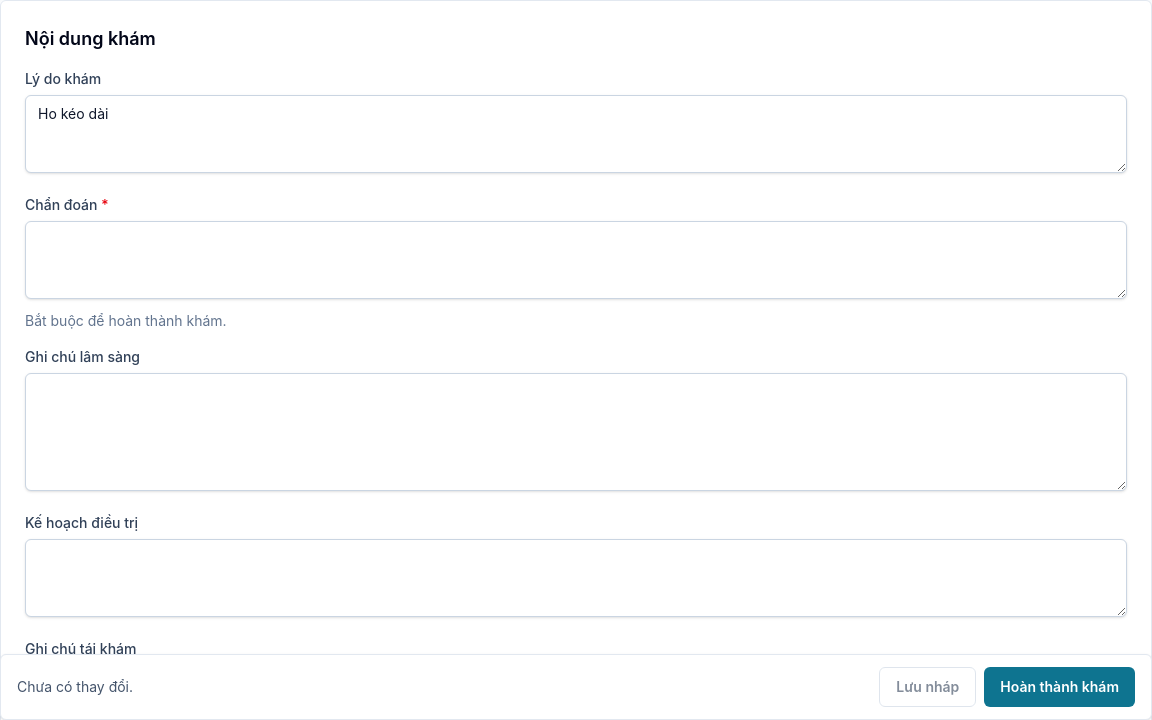
Scenario: EncounterExamTab › không cho hoàn thành khi thiếu chẩn đoán
Click the button with test id "complete-button" at (1060, 687), box [984,667,1135,707]
(page scrolled)
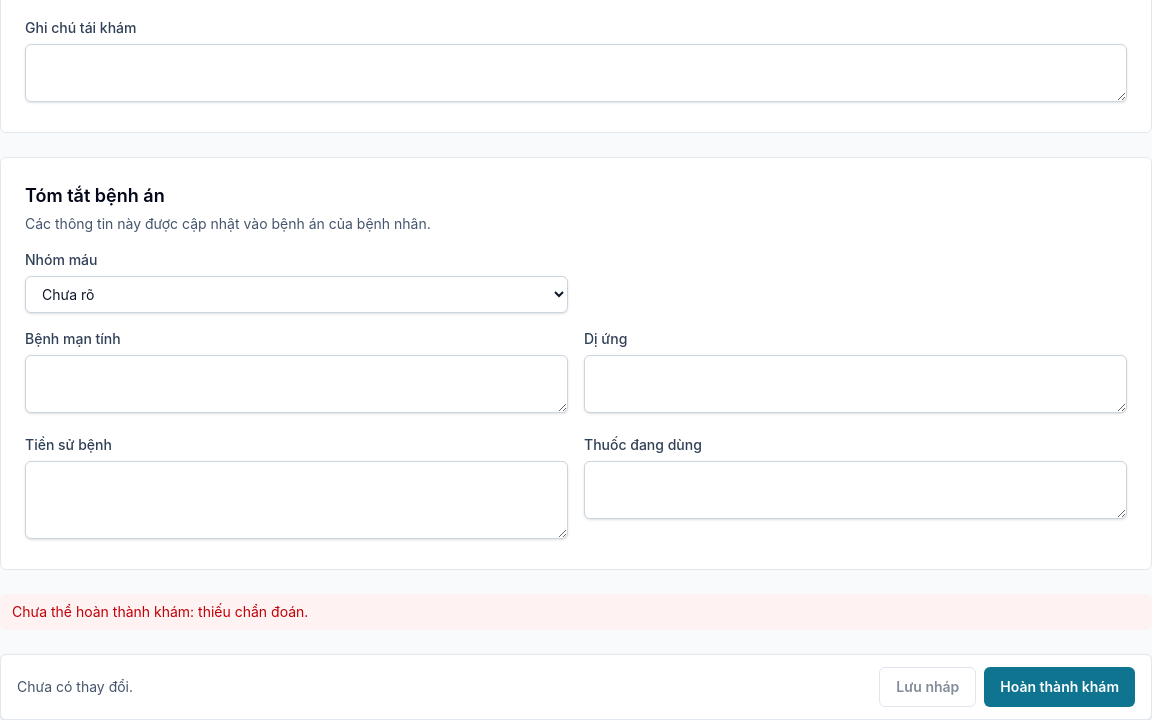
Now the message with test id "form-error" shows "thiếu chẩn đoán", box [12,603,308,620]
